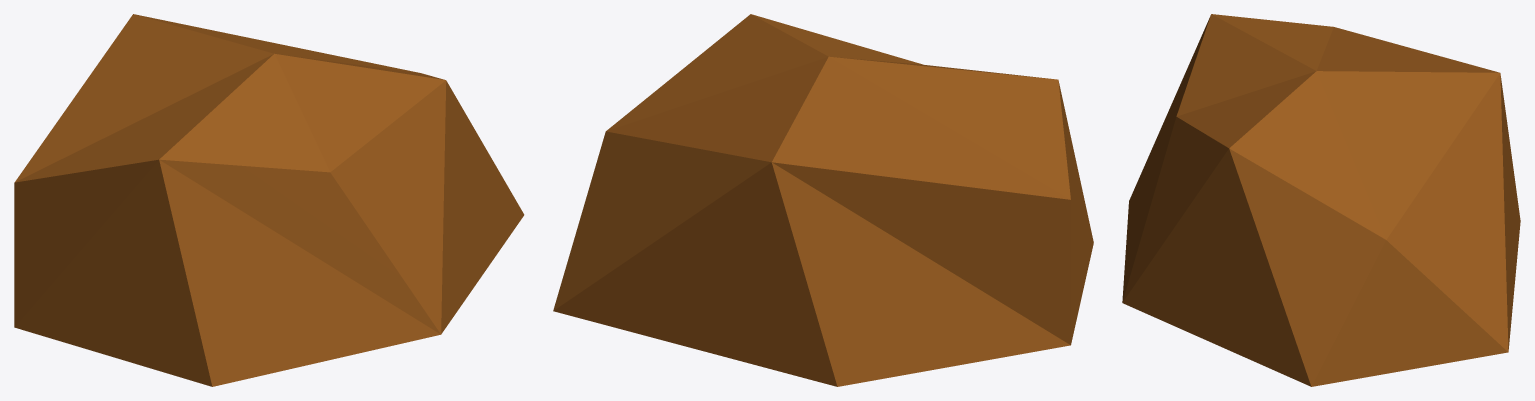
Rendered from Rock_Small_Dirt_01.fbx.
The picture shows the model from 3 angles, left to right: view 1: azimuth 30°, elevation 25°; view 2: azimuth 150°, elevation 25°; view 3: azimuth 270°, elevation 25°; orthographic projection. The views are drawn at different scales.
Parts seen in each view (by area): view 1: Rock_Small_Dirt_01; view 2: Rock_Small_Dirt_01; view 3: Rock_Small_Dirt_01.
Part boxes in pixels (x1,y1,x2,y2): Rock_Small_Dirt_01: [14, 14, 524, 386]; Rock_Small_Dirt_01: [553, 14, 1093, 386]; Rock_Small_Dirt_01: [1122, 14, 1520, 386].
Size of the model in its own units: 1161 by 613 by 866.
